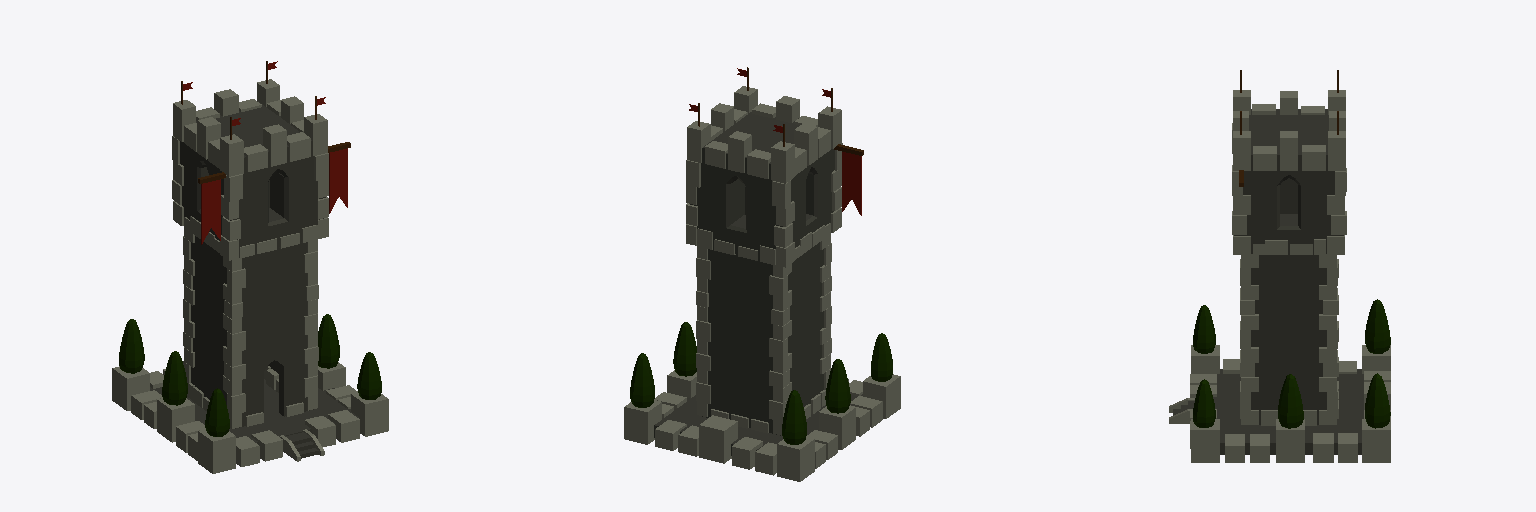
File: WatchTower_SecondAge_Level3_Cube.obj
3 renders of one model, left to right at view 1: azimuth 30°, elevation 25°; view 2: azimuth 150°, elevation 25°; view 3: azimuth 270°, elevation 25°, orthographic.
Visible parts, largest first — view 1: WatchTower_SecondAge_Level3_Cube.032; view 2: WatchTower_SecondAge_Level3_Cube.032; view 3: WatchTower_SecondAge_Level3_Cube.032.
Part boxes in pixels (left/top/right/bottom): WatchTower_SecondAge_Level3_Cube.032: left=112, top=61, right=388, bottom=473; WatchTower_SecondAge_Level3_Cube.032: left=624, top=67, right=900, bottom=481; WatchTower_SecondAge_Level3_Cube.032: left=1169, top=70, right=1390, bottom=462.
Bounding box in the file's own units: 0.8133 × 1.45 × 0.892.